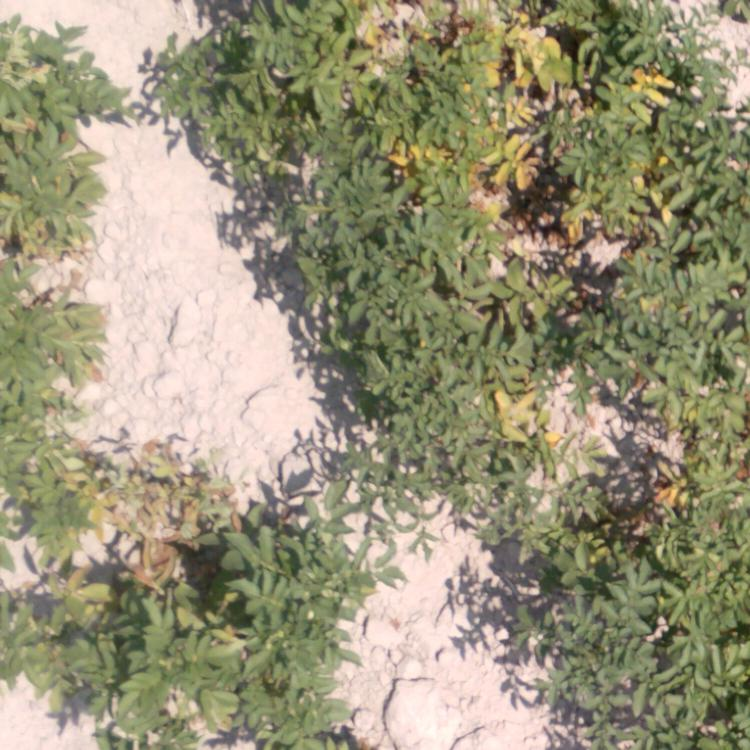healthy: (283, 231, 468, 470), (519, 570, 745, 748), (590, 250, 747, 478), (244, 511, 356, 749), (232, 1, 346, 229), (1, 640, 231, 744), (681, 58, 738, 240), (148, 24, 220, 155)
stressed: (349, 1, 664, 236), (1, 7, 132, 258), (2, 262, 103, 550), (471, 240, 576, 474), (476, 477, 731, 568), (5, 550, 237, 637), (105, 437, 231, 546)
